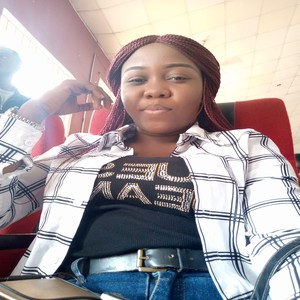Fulokoja_female_student: (114, 36, 228, 275)
